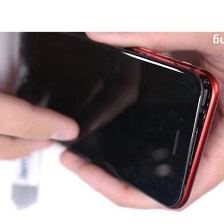phone: (0, 14, 221, 212)
